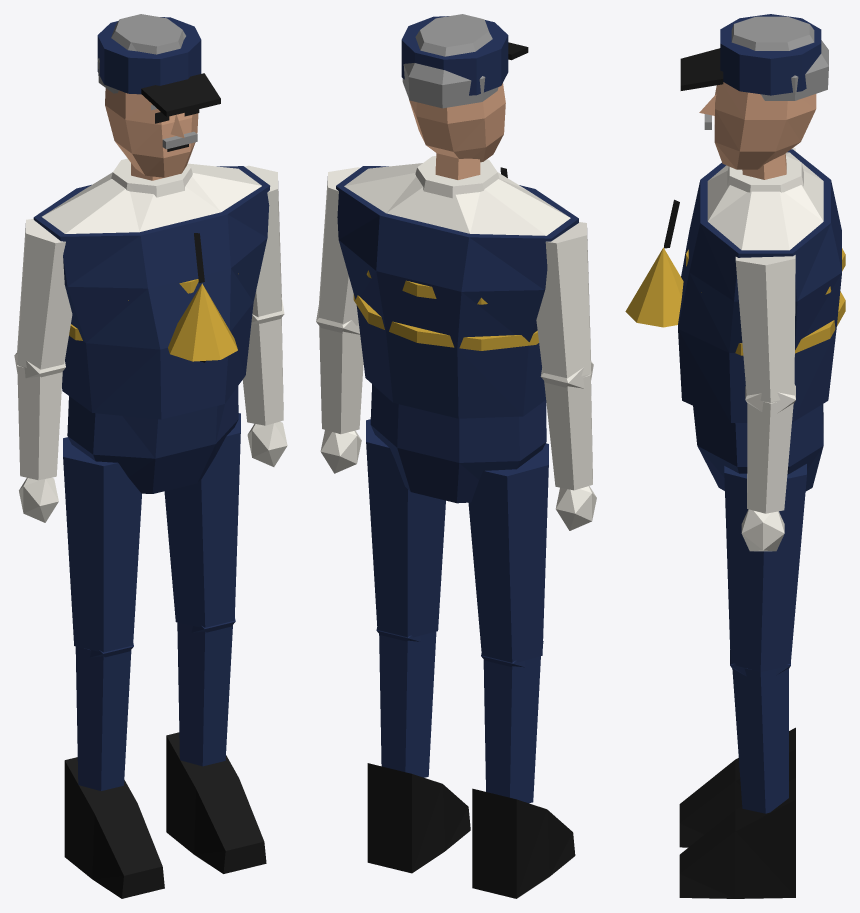
The model's file is gripman-gus.glb.
3 views of the same model, side by side, from view 1: azimuth 30°, elevation 25°; view 2: azimuth 150°, elevation 25°; view 3: azimuth 270°, elevation 25° (orthographic). The views are drawn at different scales.
Parts seen in each view (by area): view 1: chest_mesh, shin_r_mesh, shin_l_mesh, head_mesh, thigh_r_mesh, thigh_l_mesh, hips_mesh, upper_arm_r_mesh, forearm_r_mesh, forearm_l_mesh, prop_mesh, upper_arm_l_mesh; view 2: chest_mesh, shin_l_mesh, shin_r_mesh, head_mesh, thigh_r_mesh, thigh_l_mesh, hips_mesh, upper_arm_r_mesh, forearm_r_mesh, forearm_l_mesh, upper_arm_l_mesh; view 3: chest_mesh, shin_l_mesh, head_mesh, thigh_l_mesh, upper_arm_l_mesh, forearm_l_mesh, hips_mesh, shin_r_mesh, prop_mesh.
Part boxes in pixels (x1,y1,x2,y2): chest_mesh: [33, 158, 270, 419]; shin_r_mesh: [64, 646, 164, 898]; shin_l_mesh: [166, 622, 266, 873]; head_mesh: [97, 14, 220, 180]; thigh_r_mesh: [63, 437, 141, 657]; thigh_l_mesh: [164, 413, 240, 632]; hips_mesh: [67, 386, 238, 493]; upper_arm_r_mesh: [14, 219, 72, 378]; forearm_r_mesh: [17, 365, 62, 522]; forearm_l_mesh: [242, 317, 287, 466]; prop_mesh: [168, 233, 237, 362]; upper_arm_l_mesh: [245, 165, 284, 324]; chest_mesh: [336, 156, 578, 418]; shin_l_mesh: [367, 631, 470, 873]; shin_r_mesh: [472, 656, 575, 898]; head_mesh: [401, 14, 528, 179]; thigh_r_mesh: [468, 443, 548, 667]; thigh_l_mesh: [366, 419, 445, 641]; hips_mesh: [370, 384, 546, 503]; upper_arm_r_mesh: [536, 222, 593, 388]; forearm_r_mesh: [544, 374, 596, 530]; forearm_l_mesh: [319, 326, 363, 473]; upper_arm_l_mesh: [316, 167, 360, 334]; chest_mesh: [678, 149, 845, 422]; shin_l_mesh: [679, 668, 795, 898]; head_mesh: [680, 14, 828, 179]; thigh_l_mesh: [724, 464, 806, 676]; upper_arm_l_mesh: [735, 255, 795, 413]; forearm_l_mesh: [741, 401, 793, 551]; hips_mesh: [693, 404, 823, 491]; shin_r_mesh: [679, 727, 795, 847]; prop_mesh: [625, 199, 683, 327].
Bounding box in the file's own units: 0.6154 × 1.82 × 0.4347.
